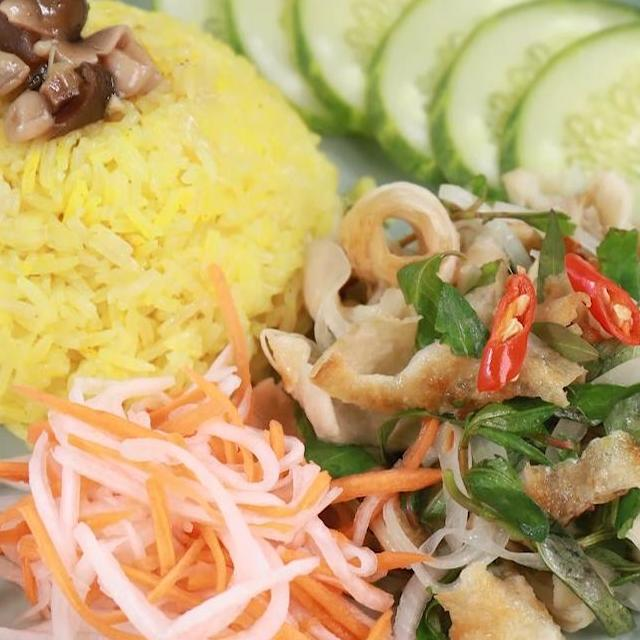com: (0, 0, 381, 454)
com ga: (0, 0, 640, 640)
rau ram: (522, 206, 640, 544), (433, 459, 640, 640), (390, 173, 582, 314), (387, 245, 508, 366), (390, 563, 468, 640)
thit ga: (306, 264, 598, 426), (256, 230, 434, 460), (497, 431, 640, 640), (338, 180, 466, 302), (418, 552, 579, 640)
